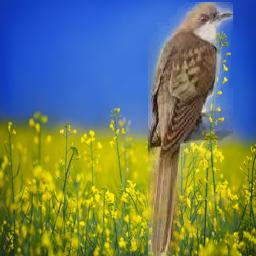Cuckoo: (149, 2, 234, 256)
